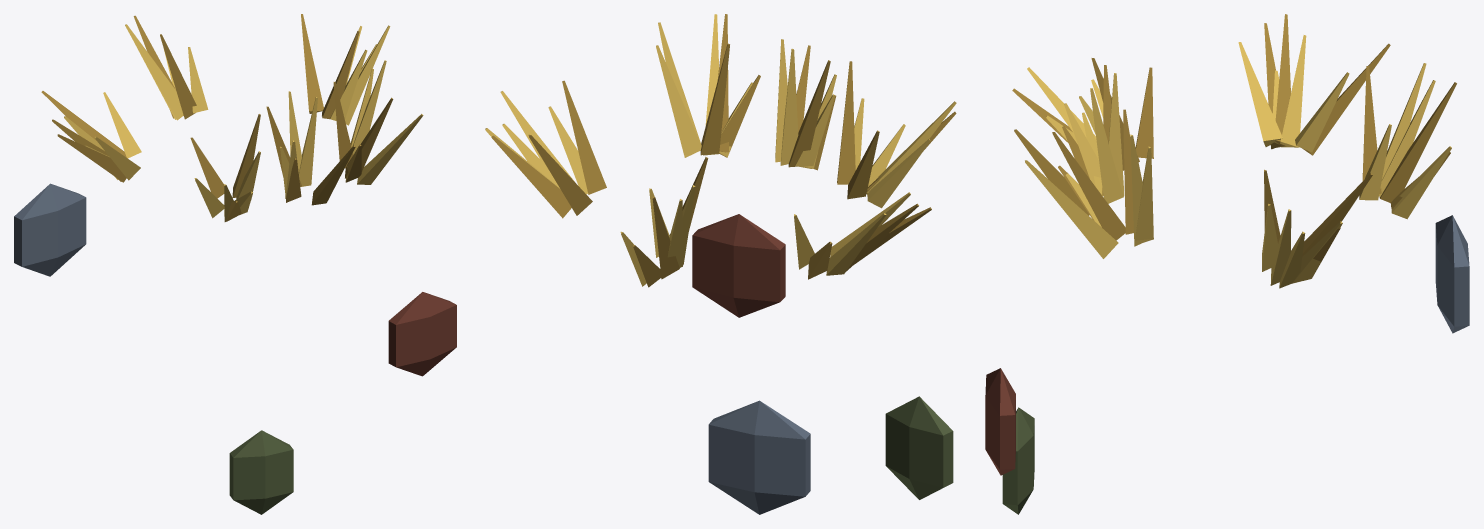
Rendered from scarecrow_chest.glb.
3 renders of one model, left to right at view 1: azimuth 30°, elevation 25°; view 2: azimuth 150°, elevation 25°; view 3: azimuth 270°, elevation 25°, orthographic. The views are drawn at different scales.
Visible parts, largest first — view 1: scarecrow_chest; view 2: scarecrow_chest; view 3: scarecrow_chest.
Boxes of the visible parts, x1=… form: scarecrow_chest: x1=14, y1=14, x2=456, y2=514; scarecrow_chest: x1=485, y1=14, x2=956, y2=514; scarecrow_chest: x1=985, y1=14, x2=1469, y2=514.
Bounding box in the file's own units: 0.8443 × 0.8986 × 0.8141.
